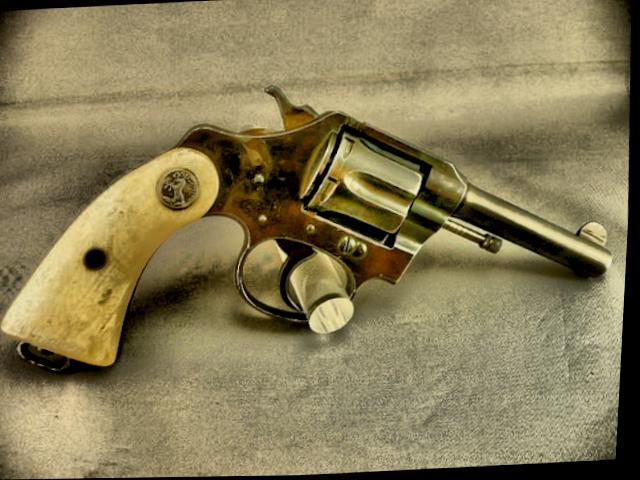pistol: (0, 68, 624, 372)
